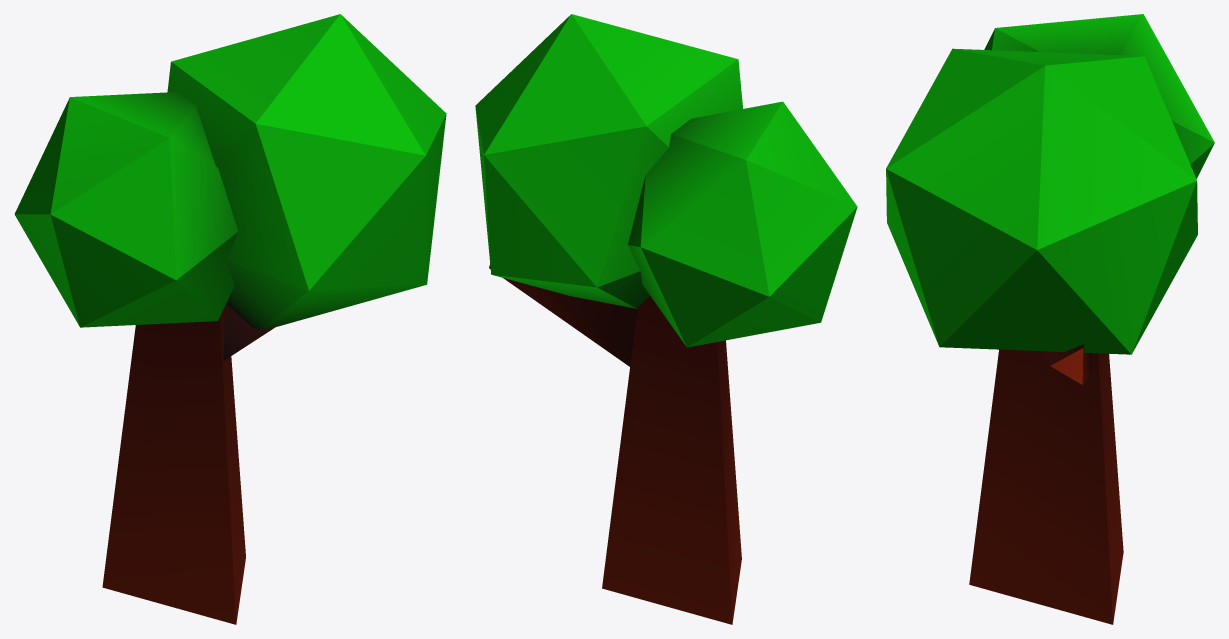
The model's file is tree6.fbx.
3 renders of one model, left to right at view 1: azimuth 30°, elevation 25°; view 2: azimuth 150°, elevation 25°; view 3: azimuth 270°, elevation 25°, orthographic. The views are drawn at different scales.
Parts seen in each view (by area): view 1: tree.001; view 2: tree.001; view 3: tree.001.
Part boxes in pixels (x1=…): tree.001: x1=14, y1=14, x2=446, y2=624; tree.001: x1=475, y1=14, x2=857, y2=624; tree.001: x1=886, y1=14, x2=1214, y2=624.
Size of the model in its own units: 491 by 656 by 330.
